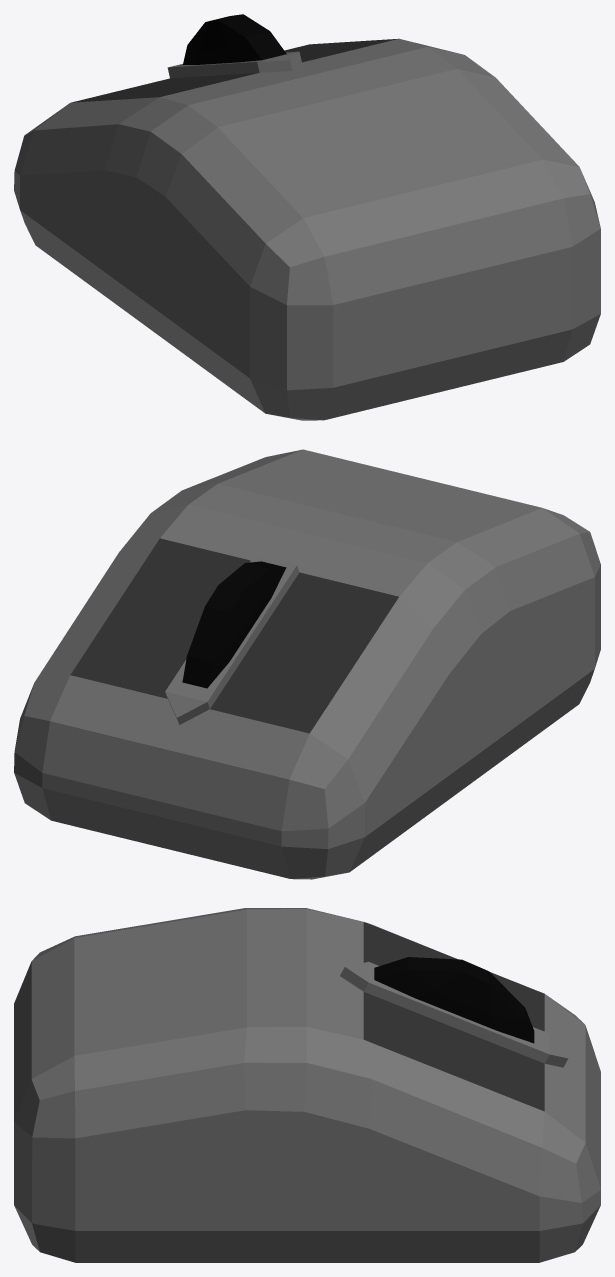
The model's file is Mouse_Final.fbx.
The picture shows the model from 3 angles, top to bottom: view 1: azimuth 30°, elevation 25°; view 2: azimuth 150°, elevation 25°; view 3: azimuth 270°, elevation 25°; orthographic projection.
Parts seen in each view (by area): view 1: Cube.008; view 2: Cube.008; view 3: Cube.008.
Boxes of the visible parts, x1,y1,x2,y2 form: Cube.008: (14, 14, 600, 420); Cube.008: (14, 449, 600, 879); Cube.008: (14, 908, 600, 1262).
Bounding box in the file's own units: 5.55 × 3.64 × 8.1.
